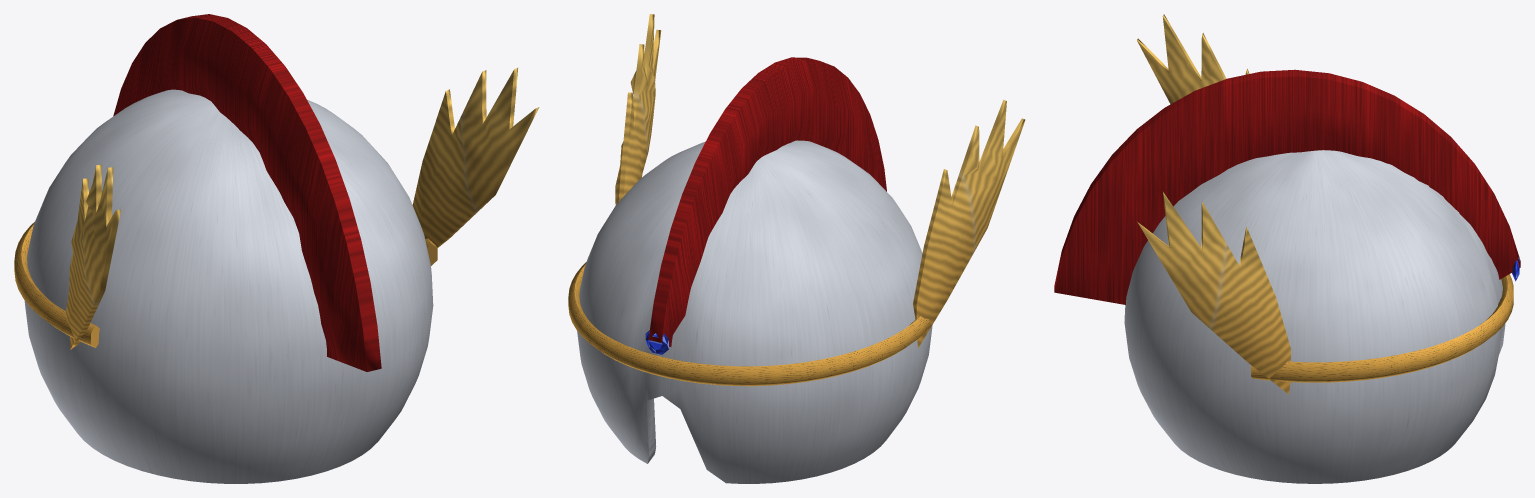
File: ChampionsHelm.glb
The picture shows the model from 3 angles, left to right: view 1: azimuth 30°, elevation 25°; view 2: azimuth 150°, elevation 25°; view 3: azimuth 270°, elevation 25°; orthographic projection. The views are drawn at different scales.
Parts seen in each view (by area): view 1: ChampionsHelm; view 2: ChampionsHelm; view 3: ChampionsHelm.
Boxes of the visible parts, <box> form: ChampionsHelm: <box>14,14,539,483</box>; ChampionsHelm: <box>568,14,1025,483</box>; ChampionsHelm: <box>1054,14,1520,483</box>.
Size of the model in its own units: 1.75 by 1.55 by 1.86.
1 material, 1 textured.
